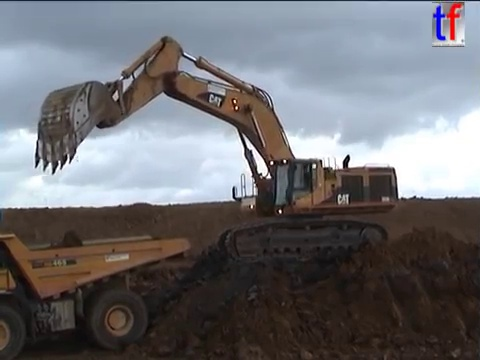excavator: (30, 32, 401, 263)
truck: (1, 229, 193, 360)
